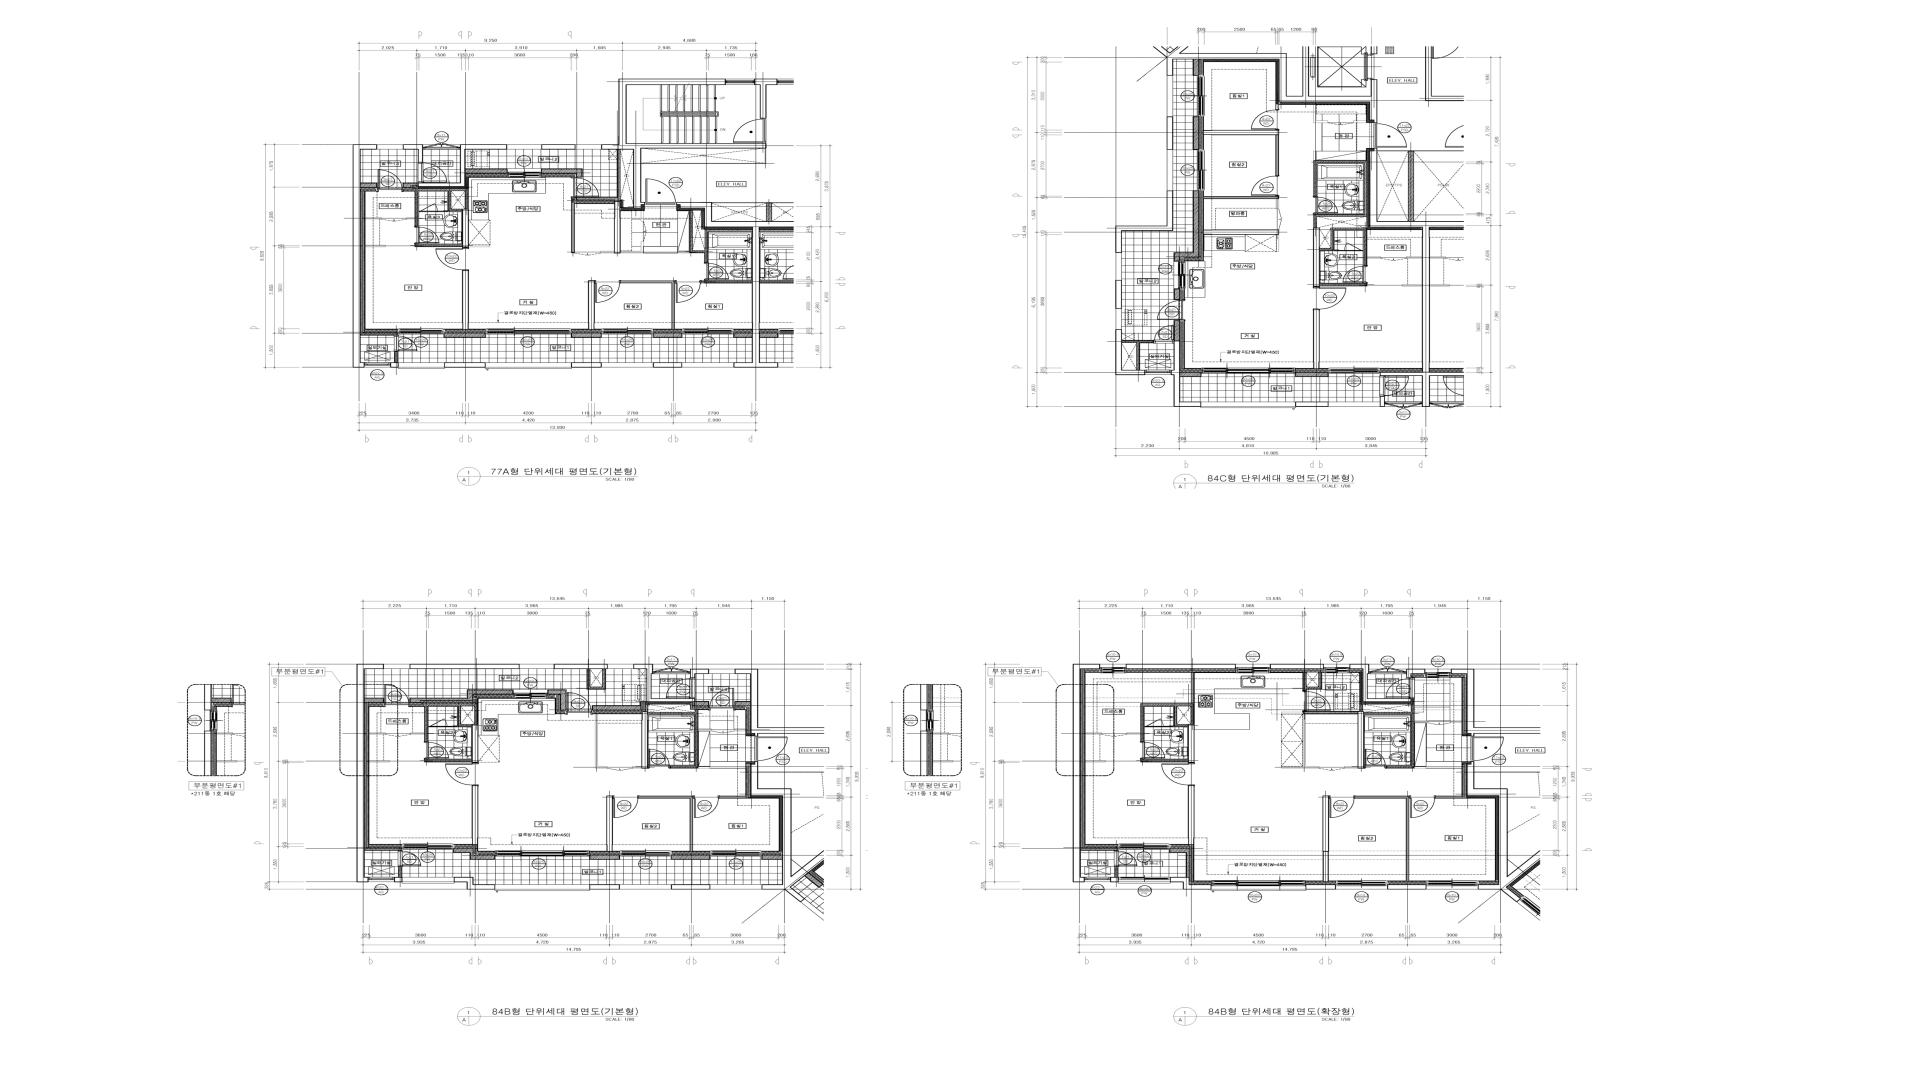door: (1470, 736, 1505, 761), (645, 178, 676, 204), (754, 736, 787, 761), (733, 119, 766, 144), (1374, 123, 1407, 148), (444, 762, 479, 786), (435, 247, 469, 270), (1162, 762, 1195, 786), (1313, 286, 1346, 310), (663, 678, 696, 698), (692, 795, 720, 818), (1379, 376, 1410, 396), (384, 684, 410, 707), (1410, 795, 1436, 818), (675, 280, 702, 302), (595, 280, 621, 302), (377, 169, 404, 191), (1303, 690, 1331, 711), (571, 177, 599, 198), (1251, 175, 1279, 196), (1158, 299, 1185, 320), (1386, 678, 1415, 698), (418, 162, 447, 182), (613, 795, 638, 818), (709, 688, 735, 711), (567, 692, 592, 715), (1329, 795, 1354, 818), (1251, 109, 1279, 129), (414, 225, 439, 244), (1342, 265, 1367, 284), (1365, 749, 1387, 769), (423, 741, 448, 758), (1141, 741, 1166, 758), (704, 262, 729, 280), (1313, 196, 1338, 214), (649, 749, 670, 769), (1114, 851, 1138, 866), (1154, 324, 1174, 343), (398, 851, 421, 866), (394, 335, 417, 351), (1385, 401, 1422, 409), (1369, 667, 1407, 674), (653, 667, 690, 674), (423, 142, 460, 149), (421, 203, 438, 212), (430, 719, 447, 727), (1146, 719, 1163, 727), (1345, 243, 1362, 251), (1428, 720, 1451, 725), (381, 218, 407, 222), (575, 252, 601, 256), (1381, 257, 1407, 261), (712, 729, 735, 733), (1278, 208, 1282, 229), (607, 767, 633, 770), (1319, 767, 1345, 770), (1101, 733, 1127, 736), (385, 733, 410, 736), (1328, 123, 1353, 125), (644, 222, 646, 241)
wall: (1370, 148, 1464, 407), (601, 78, 766, 208), (1153, 46, 1378, 123), (676, 202, 778, 368), (750, 761, 824, 902), (1466, 761, 1540, 902), (356, 663, 384, 882), (736, 669, 824, 736), (1452, 669, 1540, 736), (1073, 663, 1100, 882), (352, 144, 377, 368), (1354, 795, 1410, 881), (1282, 711, 1358, 767), (1365, 704, 1428, 769), (418, 144, 508, 186), (1313, 160, 1367, 228), (1116, 191, 1174, 253), (1203, 129, 1279, 175), (645, 704, 699, 769), (690, 210, 752, 262), (638, 795, 694, 852), (621, 281, 675, 330), (633, 663, 695, 702), (1350, 663, 1411, 702), (406, 189, 468, 225), (576, 149, 620, 200), (425, 703, 479, 741), (1141, 703, 1195, 741), (1425, 46, 1464, 100), (1171, 340, 1201, 407), (641, 148, 766, 164), (1174, 190, 1200, 261), (1320, 228, 1367, 265), (1203, 229, 1279, 252), (1141, 727, 1188, 762), (425, 727, 472, 762), (1320, 251, 1367, 286), (409, 690, 513, 703), (1116, 330, 1145, 375), (1345, 711, 1365, 769), (600, 200, 621, 253), (754, 78, 778, 119), (1122, 340, 1154, 369), (1203, 196, 1279, 208), (633, 712, 649, 769), (595, 713, 607, 769), (410, 663, 520, 669), (1126, 663, 1236, 669), (1170, 848, 1189, 877), (1323, 795, 1329, 881), (454, 848, 496, 860), (454, 877, 495, 889), (1170, 877, 1211, 889), (462, 270, 469, 330), (587, 669, 607, 690), (547, 690, 567, 711), (1188, 786, 1195, 845), (472, 786, 479, 845), (1313, 310, 1320, 369), (402, 144, 423, 162), (1313, 228, 1320, 286), (607, 795, 613, 852), (1408, 152, 1414, 222), (1303, 671, 1323, 690), (588, 280, 595, 330), (542, 169, 583, 177), (462, 208, 469, 247), (554, 663, 608, 669), (1270, 663, 1324, 669), (1313, 104, 1328, 123), (621, 241, 644, 253), (592, 705, 641, 711), (472, 724, 479, 762), (1188, 724, 1195, 762), (443, 332, 485, 338), (465, 169, 508, 174), (571, 198, 575, 253), (1193, 116, 1200, 149), (1167, 116, 1174, 149), (444, 363, 485, 368), (671, 855, 711, 860), (671, 884, 709, 889), (702, 280, 752, 284), (1116, 280, 1122, 309), (690, 669, 709, 678), (1295, 372, 1329, 377), (542, 144, 575, 149), (1295, 402, 1328, 407), (1407, 669, 1425, 678), (589, 855, 620, 860), (571, 332, 601, 338), (653, 332, 683, 338), (1387, 885, 1427, 889), (572, 363, 601, 368), (653, 363, 682, 368), (1174, 320, 1180, 340), (414, 244, 463, 247), (1191, 671, 1195, 703), (589, 885, 620, 889), (1305, 885, 1336, 889), (1378, 150, 1464, 152), (1180, 372, 1201, 377), (1193, 59, 1200, 75), (762, 855, 782, 860), (364, 698, 384, 703), (364, 848, 402, 851), (360, 332, 398, 335), (1081, 848, 1118, 851), (733, 332, 752, 338), (360, 182, 377, 187), (735, 700, 750, 705), (402, 182, 418, 187), (1436, 795, 1466, 798), (720, 795, 746, 798), (1174, 289, 1180, 299), (1379, 396, 1385, 407), (695, 702, 709, 705), (1085, 760, 1106, 762), (369, 760, 389, 762), (1402, 284, 1422, 286), (394, 351, 398, 363), (1114, 866, 1118, 877), (1085, 732, 1101, 735), (369, 732, 385, 735), (398, 866, 402, 877), (394, 877, 402, 882), (1110, 877, 1118, 882), (390, 363, 398, 368), (410, 732, 425, 735), (1407, 256, 1422, 258), (1127, 732, 1141, 735), (699, 728, 712, 731), (1367, 256, 1381, 258), (1353, 120, 1366, 123), (1451, 720, 1462, 723), (735, 728, 745, 731), (641, 211, 644, 222), (1360, 704, 1364, 711), (365, 245, 385, 247), (1275, 104, 1279, 109), (365, 218, 381, 219), (418, 211, 421, 212)
window: (1212, 881, 1305, 890), (495, 885, 589, 890), (1201, 402, 1296, 407), (496, 851, 589, 856), (1201, 368, 1295, 373), (1336, 880, 1387, 889), (1427, 880, 1478, 889), (485, 363, 572, 368), (485, 328, 571, 334), (402, 877, 455, 884), (1118, 877, 1170, 884), (1174, 261, 1185, 289), (1197, 149, 1205, 190), (1197, 75, 1205, 116), (513, 690, 547, 699), (1236, 663, 1270, 673), (508, 169, 542, 178), (1167, 149, 1174, 191), (620, 851, 671, 856), (402, 844, 454, 849), (711, 851, 762, 856), (1118, 844, 1170, 849), (682, 328, 733, 334), (601, 328, 653, 334), (1329, 368, 1381, 373), (1167, 75, 1174, 116), (1425, 669, 1452, 678), (1324, 663, 1350, 673), (1100, 663, 1126, 673), (398, 363, 444, 368), (398, 328, 443, 334), (709, 885, 762, 889), (1328, 402, 1381, 406), (620, 885, 671, 889), (682, 363, 733, 367), (601, 363, 653, 367), (1116, 252, 1122, 280), (520, 663, 554, 669), (508, 144, 542, 149), (725, 79, 754, 84), (368, 877, 394, 882), (709, 669, 736, 674), (608, 663, 634, 669), (384, 663, 410, 669), (1084, 877, 1110, 882), (575, 144, 601, 149), (1145, 369, 1171, 375), (1116, 309, 1122, 330), (377, 144, 402, 149), (364, 363, 390, 367)
